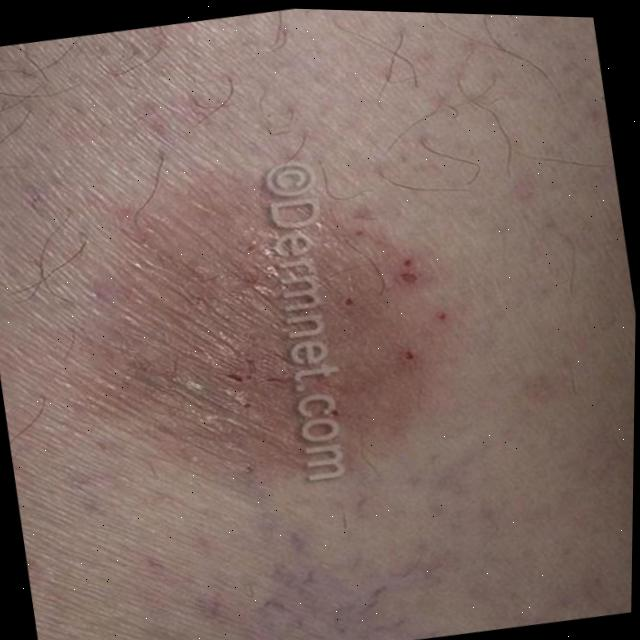Eczema: (75, 128, 478, 503)
